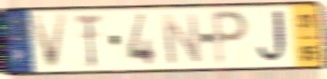4: (125, 11, 157, 69)
J: (255, 8, 293, 66)
N: (159, 12, 204, 66)
P: (210, 8, 251, 69)
T: (73, 11, 105, 70)
V: (30, 11, 71, 71)
